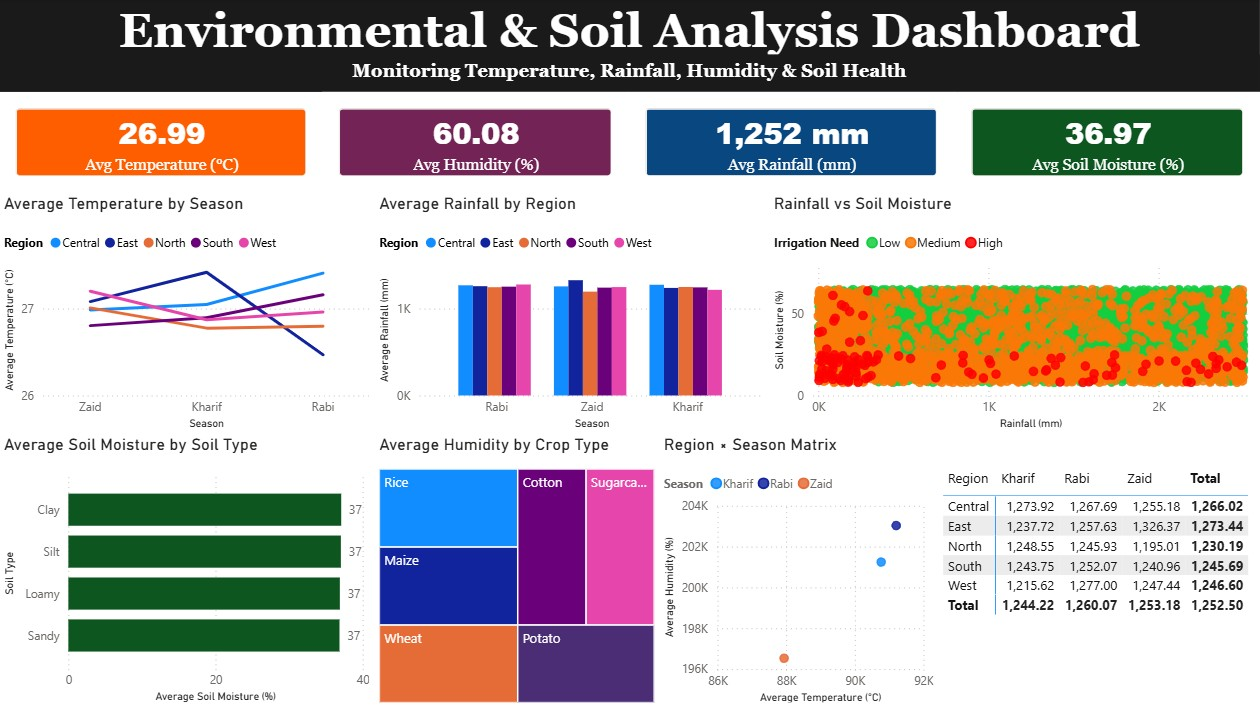

What the dashboard file says about the page in this screenshot:
{"tool":"powerbi","page":{"name":"Page 2","canvas":[1280,720],"ordinal":1},"visuals":[{"type":"textbox","box":[0,0,1280.7,95],"z":0},{"type":"cardVisual","fields":{"Data":["irrigation_prediction.Avg Temperature"]},"box":[0,95,329.6,103.3],"z":1000},{"type":"cardVisual","fields":{"Data":["irrigation_prediction.Avg Humidity"]},"box":[328.2,95,311.4,103.3],"z":2000},{"type":"cardVisual","fields":{"Data":["irrigation_prediction.Avg Rainfall Display"]},"box":[639.7,95,331,103.3],"z":3000},{"type":"cardVisual","fields":{"Data":["irrigation_prediction.Avg Soil Moisture"]},"box":[970.6,95,310,103.3],"z":4000},{"type":"lineChart","title":"Average Temperature by Season","fields":{"Category":["irrigation_prediction.Season"],"Series":["irrigation_prediction.Region"],"Y":["irrigation_prediction.Avg Temperature"]},"box":[0,198.3,381.3,244.4],"z":5000},{"type":"clusteredColumnChart","title":"Average Rainfall by Region","fields":{"Y":["irrigation_prediction.Avg Rainfall"],"Category":["irrigation_prediction.Season"],"Series":["irrigation_prediction.Region"]},"box":[381.3,198.3,400.8,244.4],"z":6000},{"type":"barChart","title":"Average Soil Moisture by Soil Type","fields":{"Category":["irrigation_prediction.Soil_Type"],"Y":["irrigation_prediction.Avg Soil Moisture"]},"box":[0,442.7,381.3,277.9],"z":7000},{"type":"treemap","title":"Average Humidity by Crop Type","fields":{"Group":["irrigation_prediction.Crop_Type"],"Values":["irrigation_prediction.Avg Humidity"]},"box":[381.3,442.7,289.1,277.9],"z":8000},{"type":"scatterChart","title":"Rainfall vs Soil Moisture","fields":{"X":["Sum(irrigation_prediction.Rainfall_mm)"],"Y":["Sum(irrigation_prediction.Soil_Moisture)"],"Series":["irrigation_prediction.Irrigation_Need"],"Category":["irrigation_prediction.Index"]},"box":[782.1,198.3,498.6,244.4],"z":9000},{"type":"scatterChart","title":"Region × Season Matrix","fields":{"X":["Sum(irrigation_prediction.Temperature_C)"],"Y":["Sum(irrigation_prediction.Humidity)"],"Series":["irrigation_prediction.Season"]},"box":[670.4,442.7,283.5,277.9],"z":10000},{"type":"pivotTable","fields":{"Rows":["irrigation_prediction.Region"],"Columns":["irrigation_prediction.Season"],"Values":["irrigation_prediction.Avg Rainfall"]},"box":[953.9,472.1,326.8,160.6],"z":11000},{"type":"textbox","box":[0,57.3,1280.7,37.7],"z":12000}]}

Visuals, with their boxes in screenshot pixels (x1, y1, x2, y2), scaled from the page's 1280x720 canvas onto the 1260x707 screenshot:
textbox: 0, 0, 1259, 93
cardVisual - irrigation_prediction.Avg Temperature: 0, 93, 324, 195
cardVisual - irrigation_prediction.Avg Humidity: 323, 93, 630, 195
cardVisual - irrigation_prediction.Avg Rainfall Display: 630, 93, 956, 195
cardVisual - irrigation_prediction.Avg Soil Moisture: 955, 93, 1259, 195
"Average Temperature by Season" lineChart: 0, 195, 375, 435
"Average Rainfall by Region" clusteredColumnChart: 375, 195, 770, 435
"Average Soil Moisture by Soil Type" barChart: 0, 435, 375, 706
"Average Humidity by Crop Type" treemap: 375, 435, 660, 706
"Rainfall vs Soil Moisture" scatterChart: 770, 195, 1259, 435
"Region × Season Matrix" scatterChart: 660, 435, 939, 706
pivotTable - irrigation_prediction.Region x irrigation_prediction.Season: 939, 464, 1259, 621
textbox: 0, 56, 1259, 93
